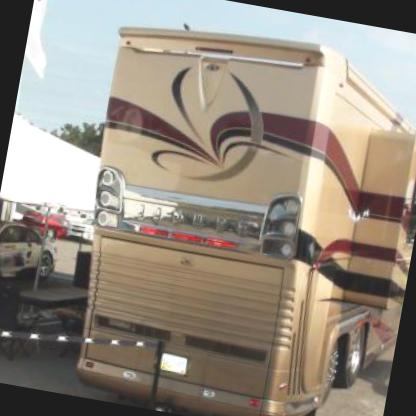truck: (45, 16, 415, 415)
